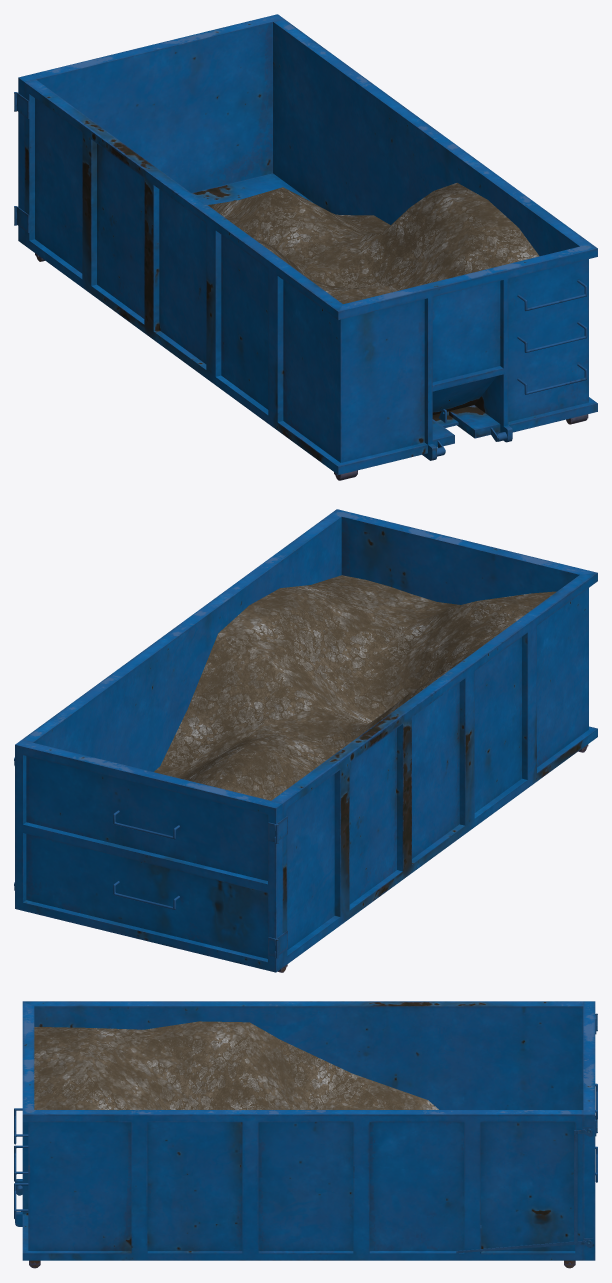
Rendered from SM_Construction_Dumpster.FBX.
3 renders of one model, top to bottom at view 1: azimuth 30°, elevation 25°; view 2: azimuth 150°, elevation 25°; view 3: azimuth 270°, elevation 25°, orthographic. The views are drawn at different scales.
Parts seen in each view (by area): view 1: Construction_Dumpster_LOD0, Rubble_LOD0; view 2: Construction_Dumpster_LOD0, Rubble_LOD0; view 3: Construction_Dumpster_LOD0, Rubble_LOD0.
Part boxes in pixels (bbox=[...]): Construction_Dumpster_LOD0: bbox=[14, 14, 597, 480]; Rubble_LOD0: bbox=[208, 182, 539, 304]; Construction_Dumpster_LOD0: bbox=[14, 509, 597, 972]; Rubble_LOD0: bbox=[154, 575, 556, 800]; Construction_Dumpster_LOD0: bbox=[14, 1001, 597, 1268]; Rubble_LOD0: bbox=[34, 1021, 438, 1109].
Size of what is drawn, in the model's own units: 2.34 by 1.47 by 4.97.
